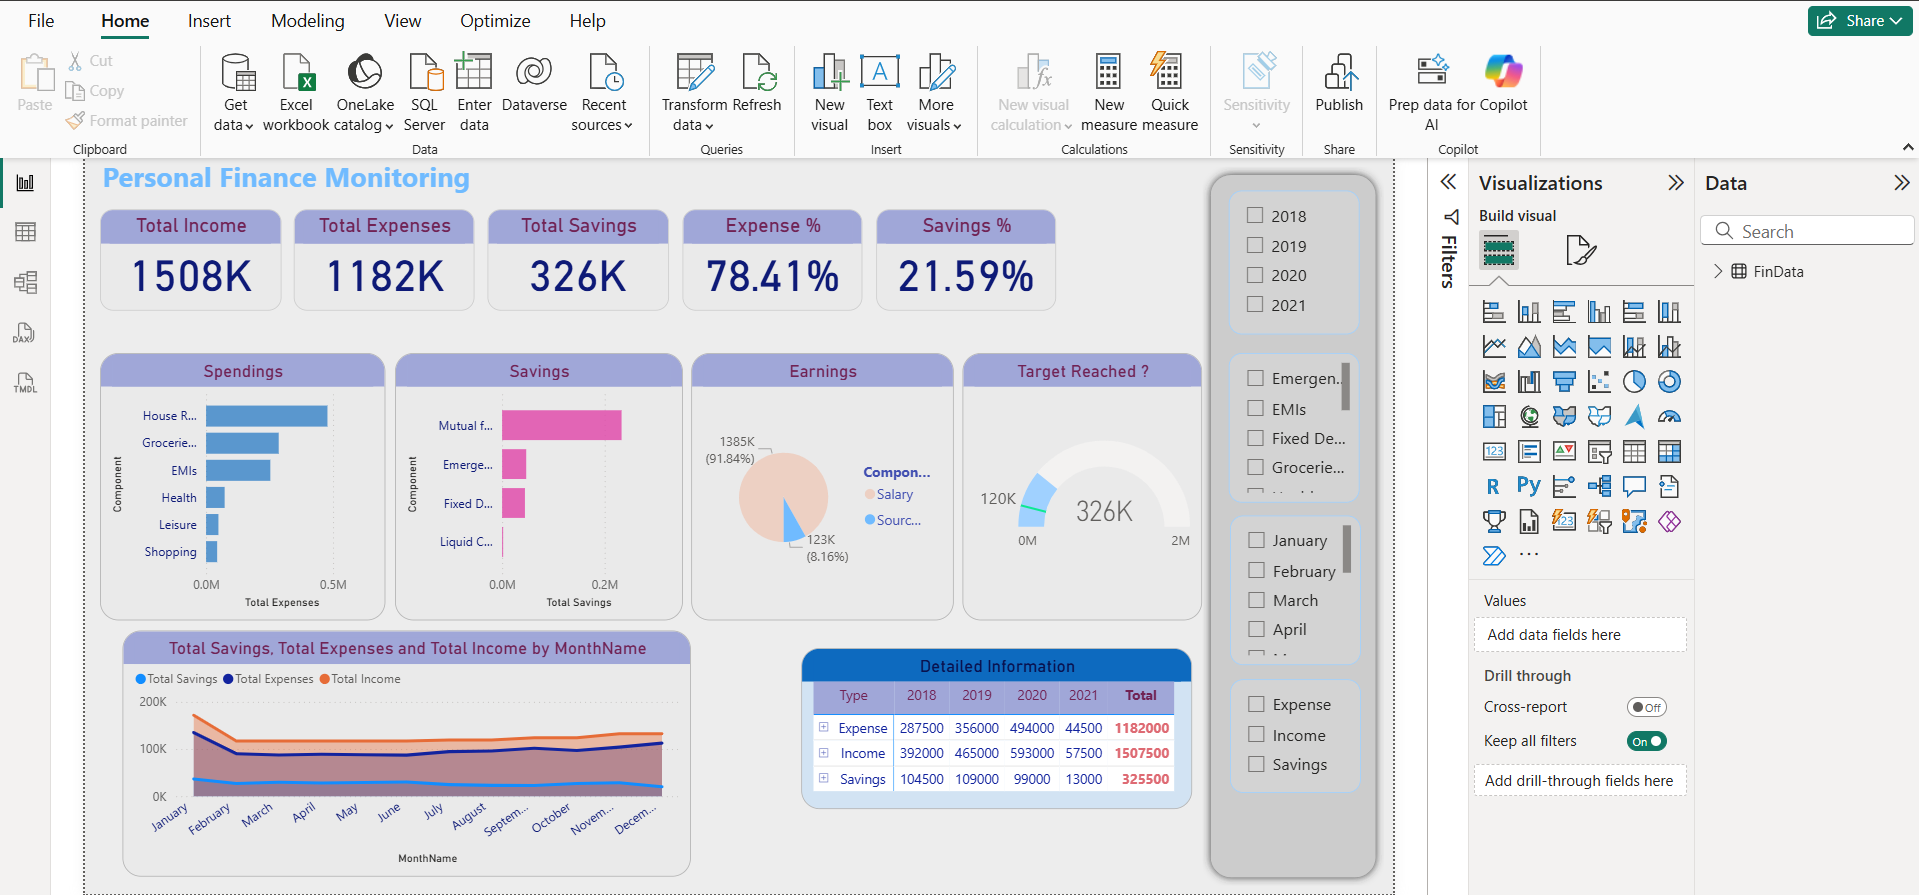

What the dashboard file says about the page in this screenshot:
{"tool":"powerbi","page":{"name":"Page 1","canvas":[1280,720],"ordinal":0},"visuals":[{"type":"textbox","title":"Personal Finance Monitoring","box":[12.2,0,392.5,39.1],"z":0},{"type":"card","title":"Total Income","fields":{"Values":["Sheet1.Total Expenses"]},"box":[14.2,49.6,177.3,99],"z":1000},{"type":"card","title":"Total Expenses","fields":{"Values":["Sheet1.Total Expenses"]},"box":[204.4,49.6,177,99],"z":2000},{"type":"card","title":"Total Savings","fields":{"Values":["Sheet1.Total Savings"]},"box":[394.3,49.6,177.3,99],"z":3000},{"type":"card","title":"Expense %","fields":{"Values":["FinData.Expense %"]},"box":[584.6,49.6,176.1,99],"z":4000},{"type":"card","title":"Savings %","fields":{"Values":["FinData.Savings %"]},"box":[773.6,49.6,176.1,99],"z":5000},{"type":"shape","box":[1093.2,8.6,177.3,703.1],"z":6000},{"type":"slicer","fields":{"Values":["FinData.Year"]},"box":[1118.9,31.8,128.4,140.6],"z":7000},{"type":"clusteredBarChart","title":"Spendings","fields":{"Category":["FinData.Component"],"Y":["FinData.Total Expenses"]},"box":[14.7,190.8,278.8,261.7],"z":8000},{"type":"clusteredBarChart","title":"Savings","fields":{"Category":["FinData.Component"],"Y":["FinData.Total Savings"]},"box":[303.3,190.8,281.3,261.7],"z":9000},{"type":"pivotTable","title":"Detailed Information","fields":{"Rows":["FinData.Type","FinData.Component"],"Columns":["FinData.Year","FinData.Date"],"Values":["Sum(FinData.Value)"]},"box":[700.7,479.4,382.7,157.7],"z":10000},{"type":"pieChart","title":"Earnings","fields":{"Category":["FinData.Component"],"Y":["FinData.Total Income"]},"box":[593.1,190.8,256.8,261.7],"z":11000},{"type":"gauge","title":"Target Reached ?","fields":{"Y":["FinData.Total Savings"],"MaxValue":["FinData.Total Income"],"TargetValue":["FinData.Savings Target"]},"box":[858.4,190.8,234.8,261.7],"z":12000},{"type":"areaChart","fields":{"Y":["FinData.Total Savings","FinData.Total Expenses","FinData.Total Income"],"Category":["FinData.Year","FinData.Date","FinData.MonthName"]},"box":[36.7,462.2,556.4,240.9],"z":13000},{"type":"slicer","fields":{"Values":["FinData.Component"]},"box":[1118.9,190.8,128.4,146.7],"z":14000},{"type":"slicer","fields":{"Values":["FinData.MonthName"]},"box":[1120.1,349.7,128.4,146.7],"z":15000},{"type":"slicer","fields":{"Values":["FinData.Type"]},"box":[1120.1,509.9,128.4,111.3],"z":16000}]}

Visuals, with their boxes on the page's 1280x720 design canvas (x1, y1, x2, y2). These are canvas units, not pixel positions in the 1919x895 screenshot, which may show the page scaled, cropped or inside an application window:
"Personal Finance Monitoring" textbox: (left=12, top=0, right=405, bottom=39)
"Total Income" card: (left=14, top=50, right=192, bottom=149)
"Total Expenses" card: (left=204, top=50, right=381, bottom=149)
"Total Savings" card: (left=394, top=50, right=572, bottom=149)
"Expense %" card: (left=585, top=50, right=761, bottom=149)
"Savings %" card: (left=774, top=50, right=950, bottom=149)
shape: (left=1093, top=9, right=1270, bottom=712)
slicer - FinData.Year: (left=1119, top=32, right=1247, bottom=172)
"Spendings" clusteredBarChart: (left=15, top=191, right=294, bottom=452)
"Savings" clusteredBarChart: (left=303, top=191, right=585, bottom=452)
"Detailed Information" pivotTable: (left=701, top=479, right=1083, bottom=637)
"Earnings" pieChart: (left=593, top=191, right=850, bottom=452)
"Target Reached ?" gauge: (left=858, top=191, right=1093, bottom=452)
areaChart - FinData.Total Savings x FinData.Total Expenses: (left=37, top=462, right=593, bottom=703)
slicer - FinData.Component: (left=1119, top=191, right=1247, bottom=338)
slicer - FinData.MonthName: (left=1120, top=350, right=1248, bottom=496)
slicer - FinData.Type: (left=1120, top=510, right=1248, bottom=621)
